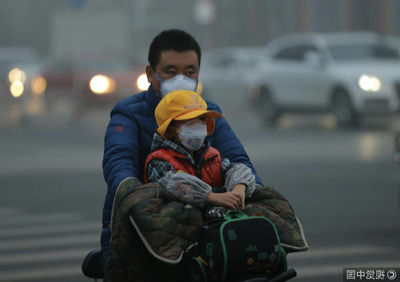with_mask: (154, 61, 198, 103), (176, 115, 210, 150)
